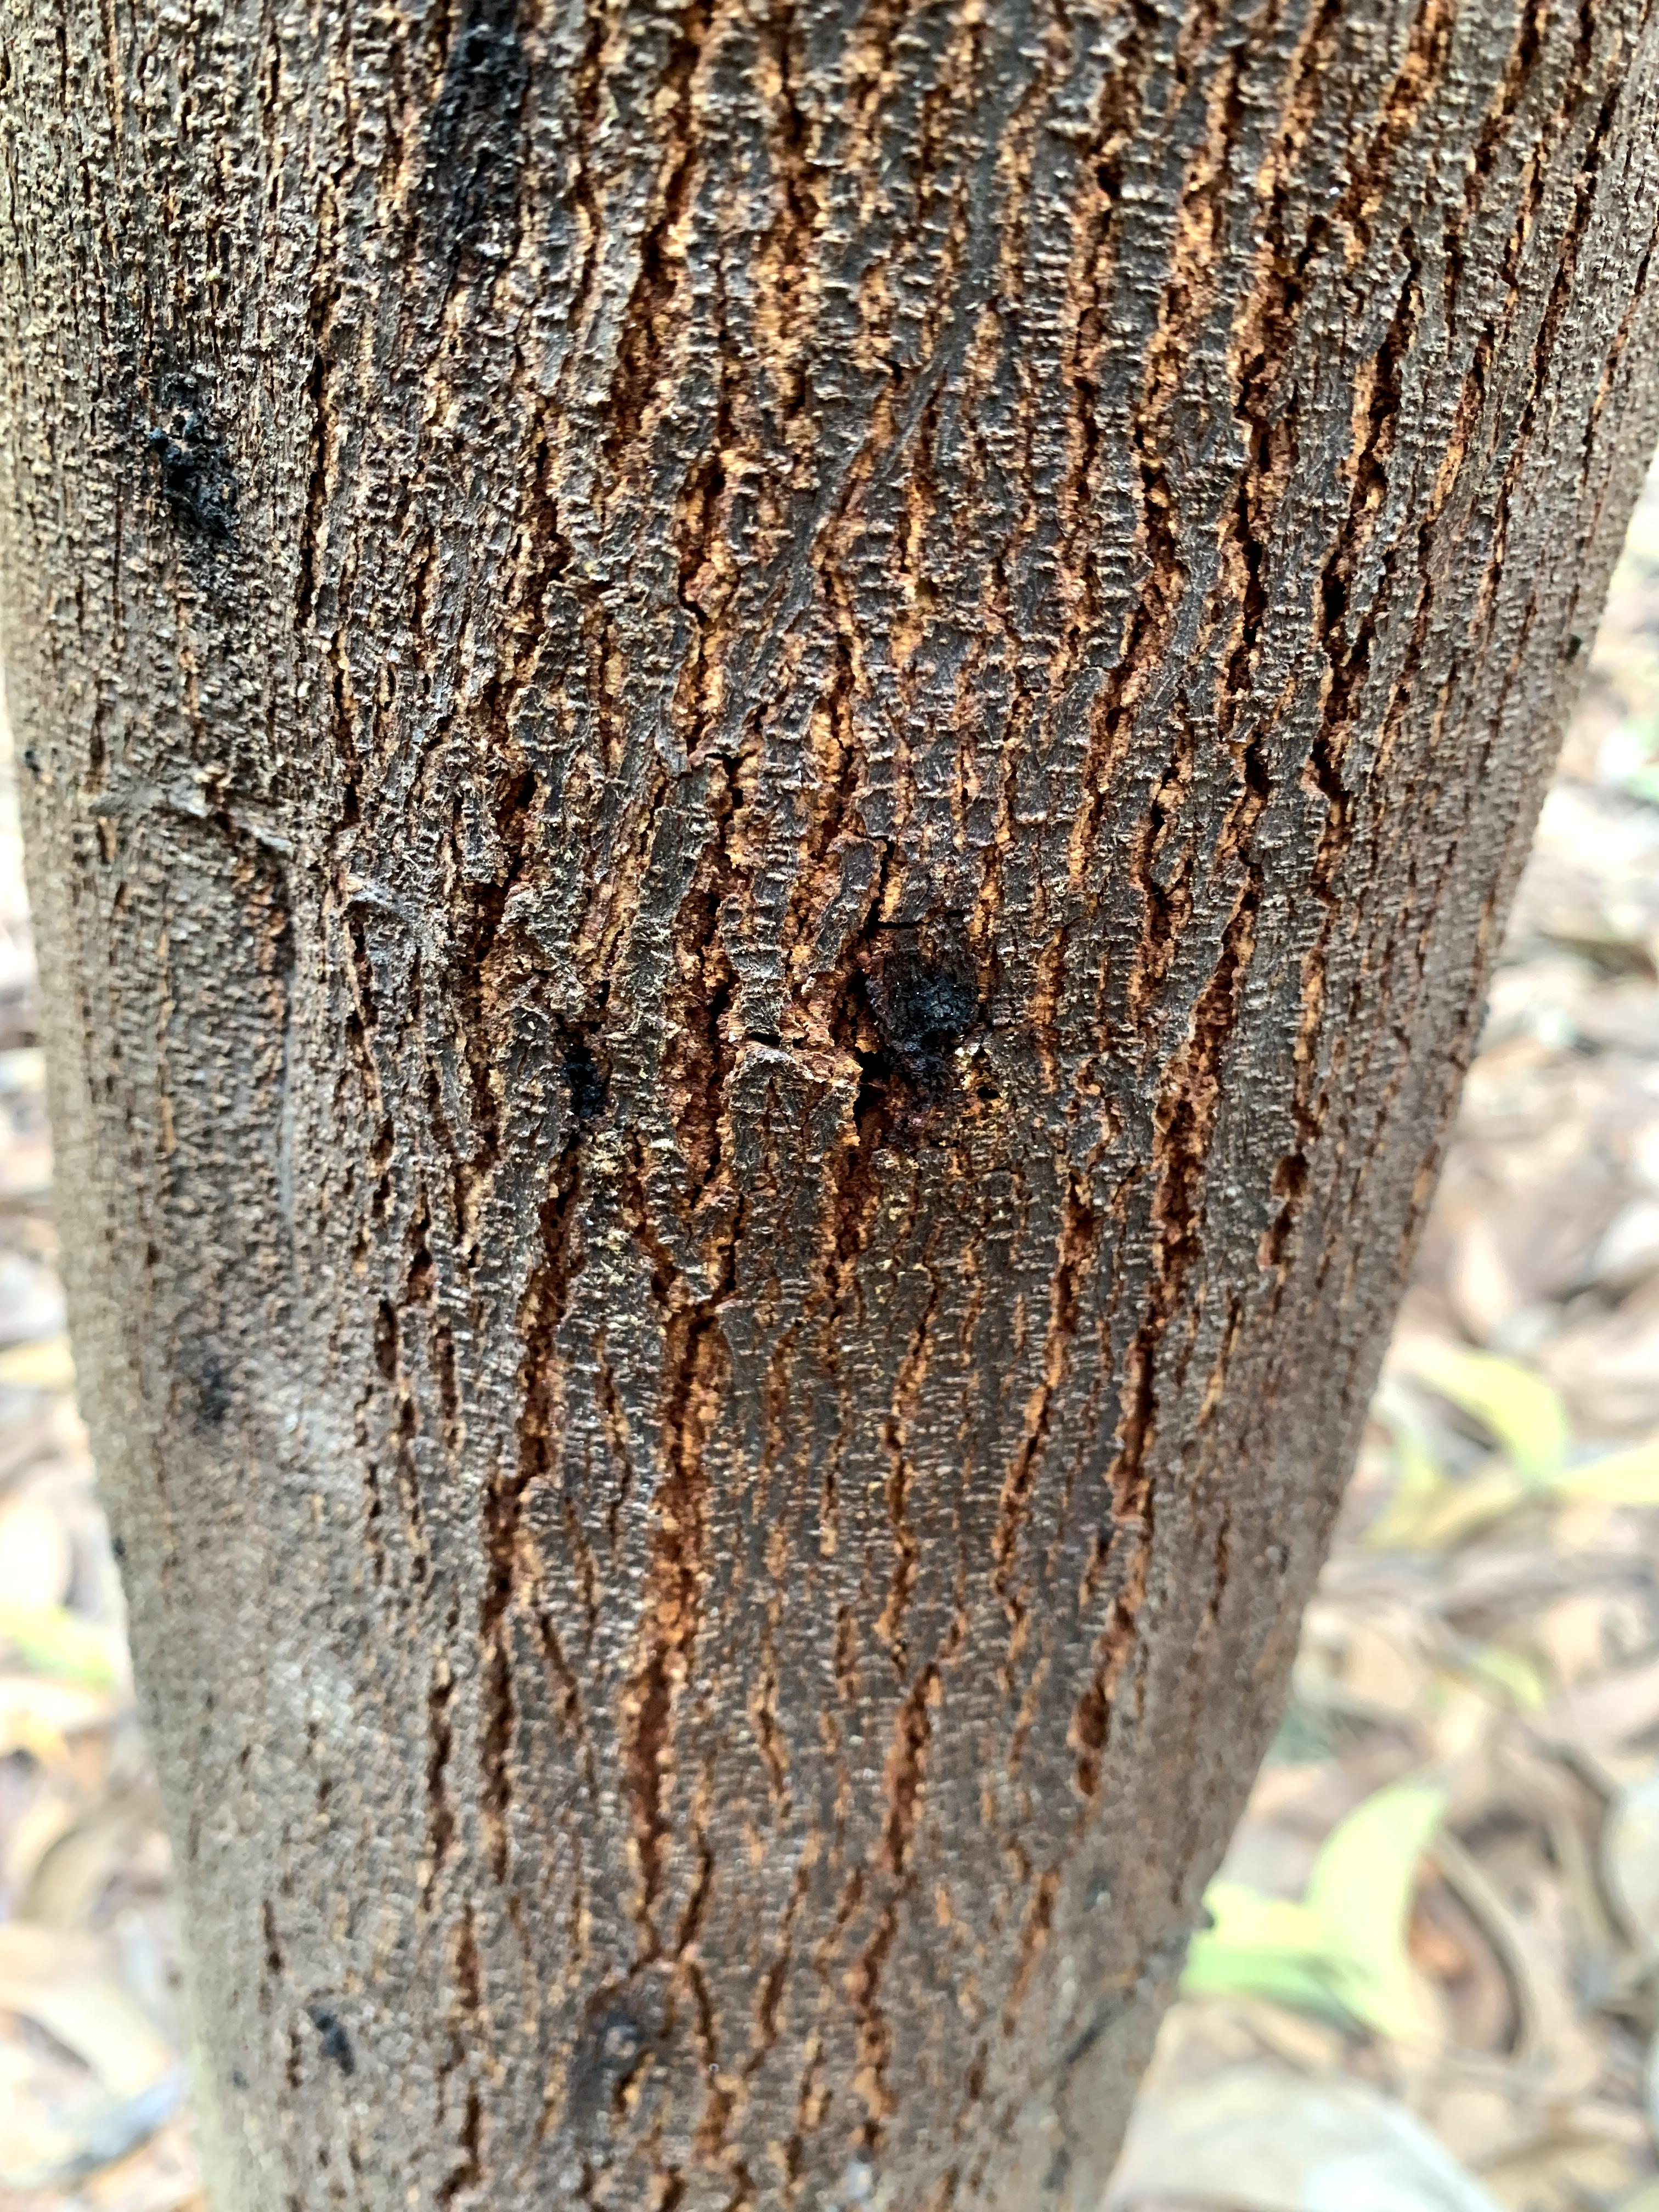Stem Borer: (35, 319, 336, 712), (357, 0, 599, 314), (429, 923, 648, 1209), (802, 890, 1030, 1134), (544, 1965, 714, 2160), (260, 1939, 415, 2125), (122, 1301, 279, 1467)
Stem Deformation: (769, 0, 1659, 756)
